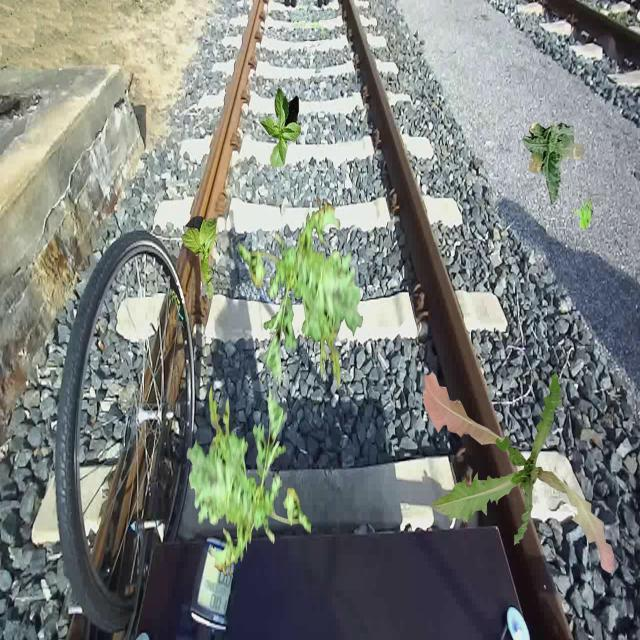Plant: (422, 371, 614, 574), (187, 383, 312, 579), (239, 196, 364, 392), (522, 122, 586, 205), (260, 88, 302, 168), (181, 216, 216, 300), (573, 198, 594, 231)
